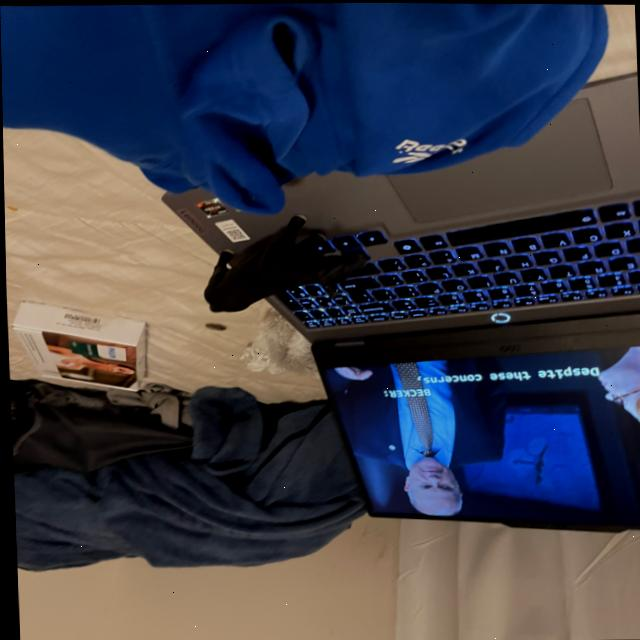cow: (193, 206, 370, 315)
